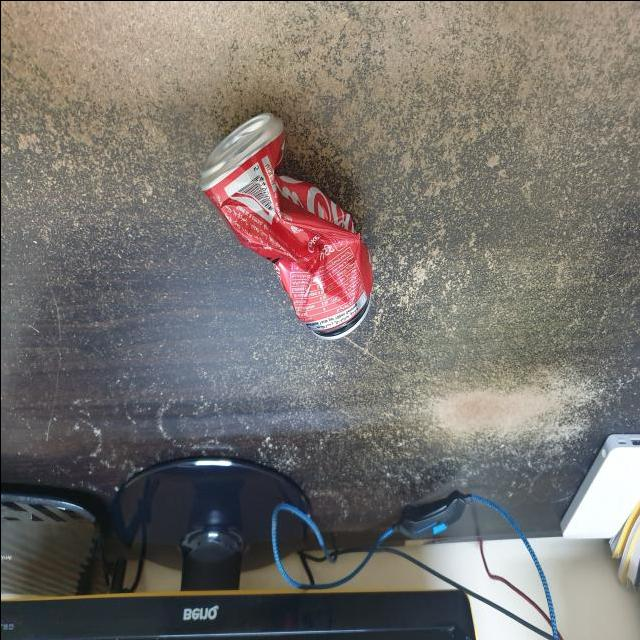can: (192, 110, 376, 345)
